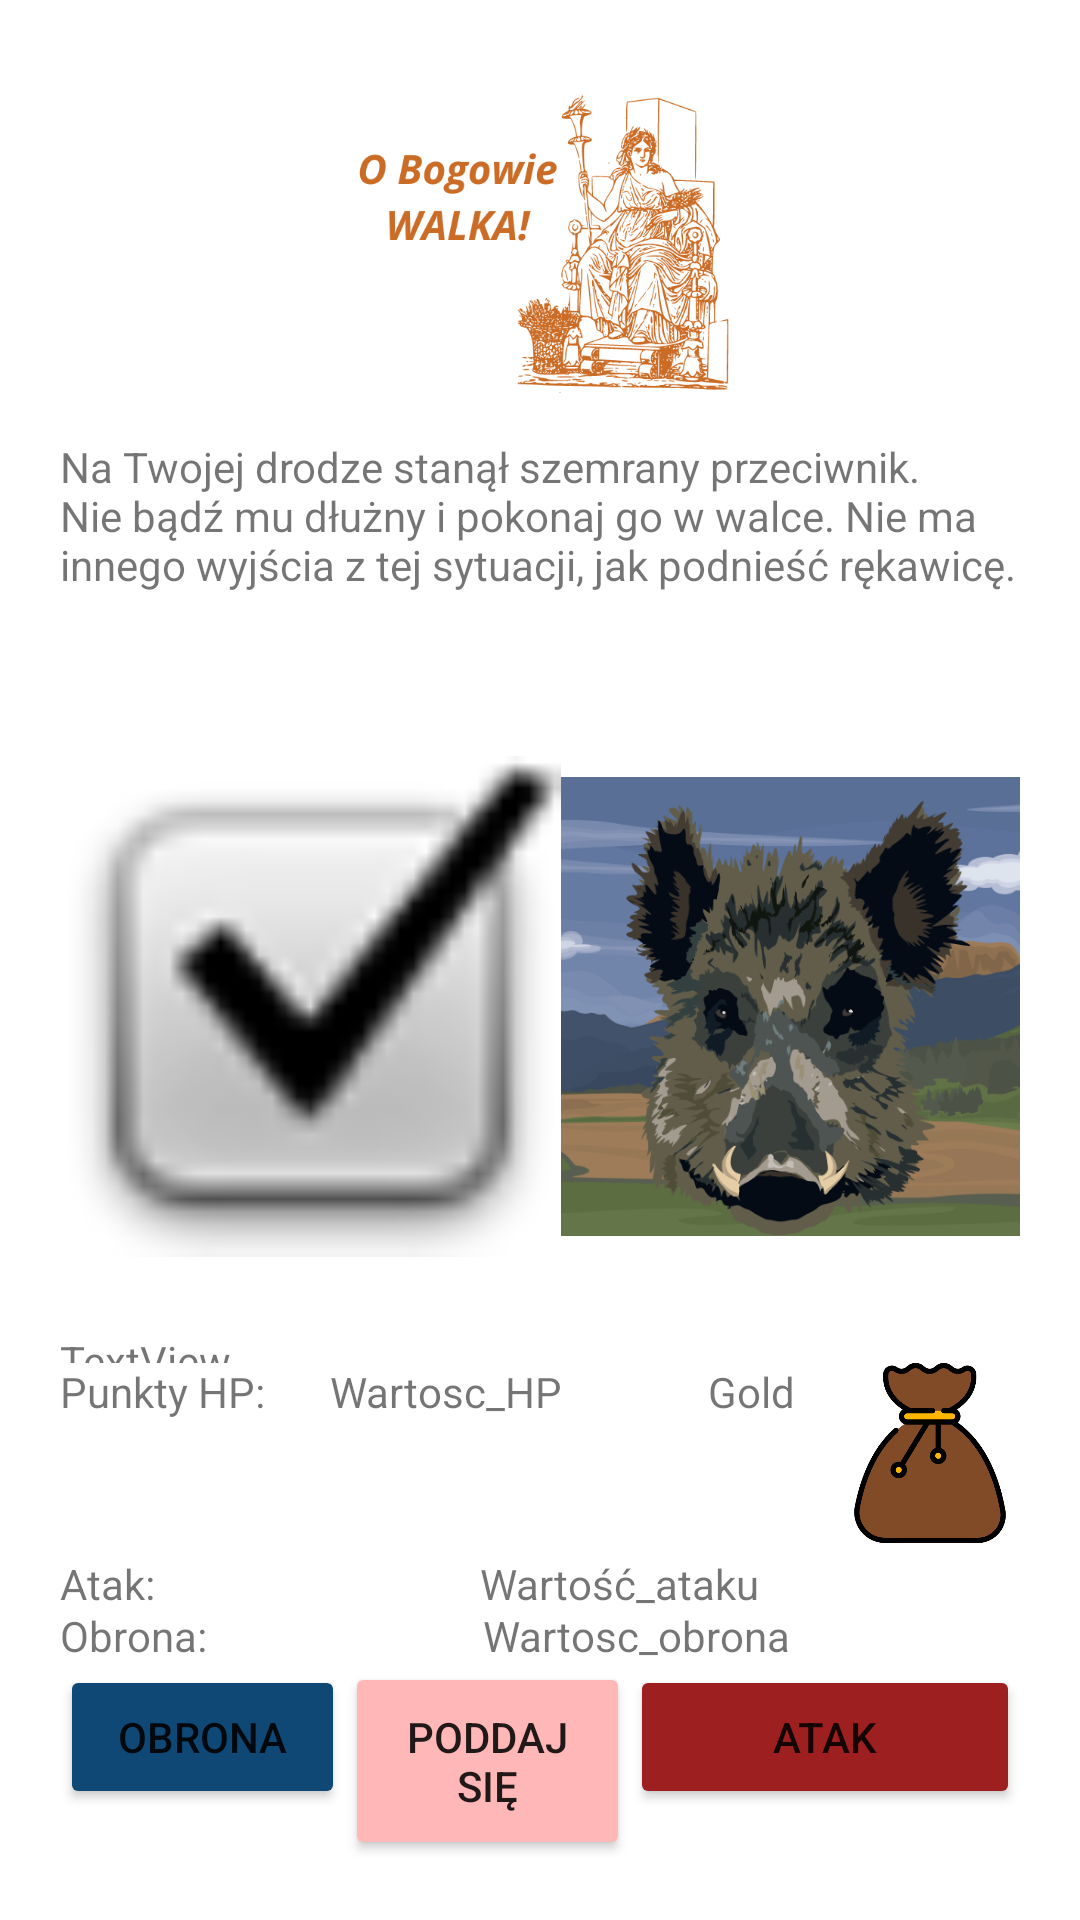

Named icons in this screenshot (1080w x 1920h) and their bounding boxes, (x1, y1, x2, y2):
staty sakwa: (854, 1363, 1006, 1543)
